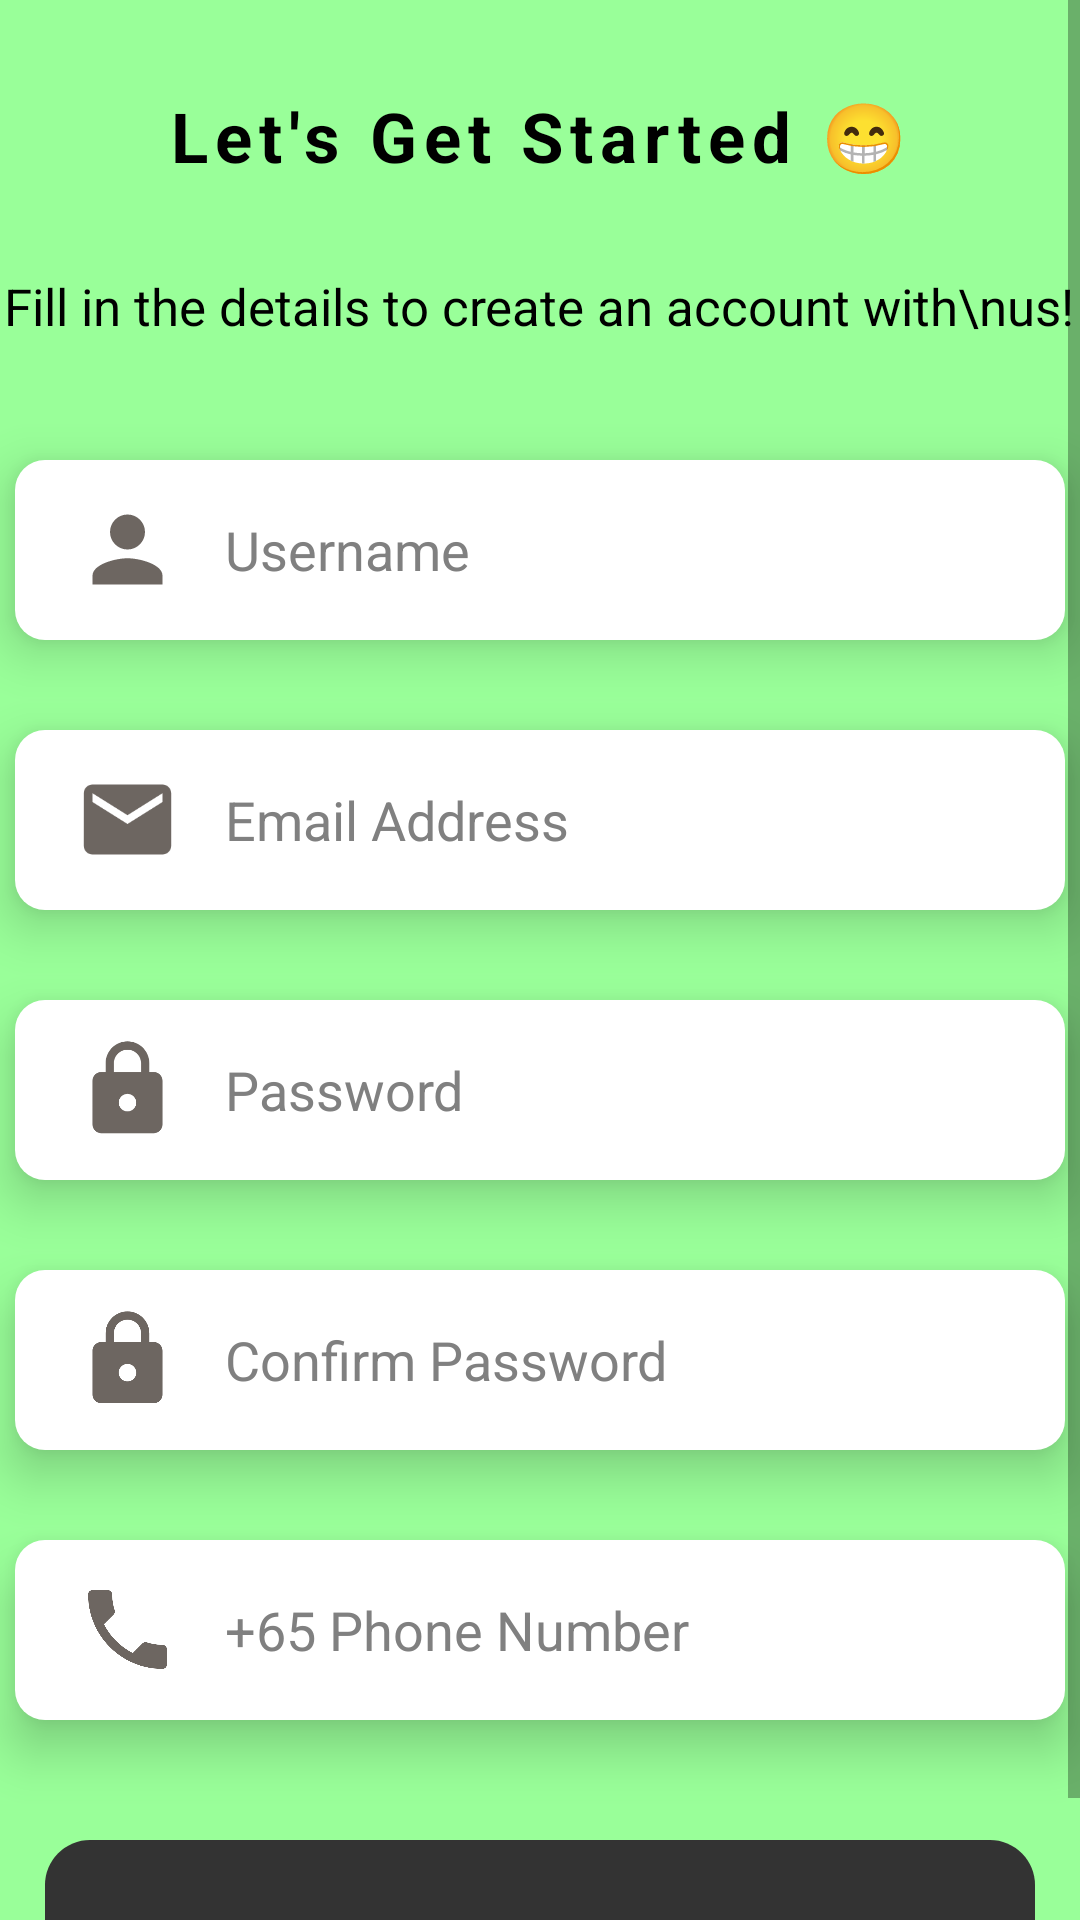

Icons on this 1080px×1920px Android screen, each with the point to tap as [x,y]:
lock: [127,1087], [127,1357]
person: [127,549]
